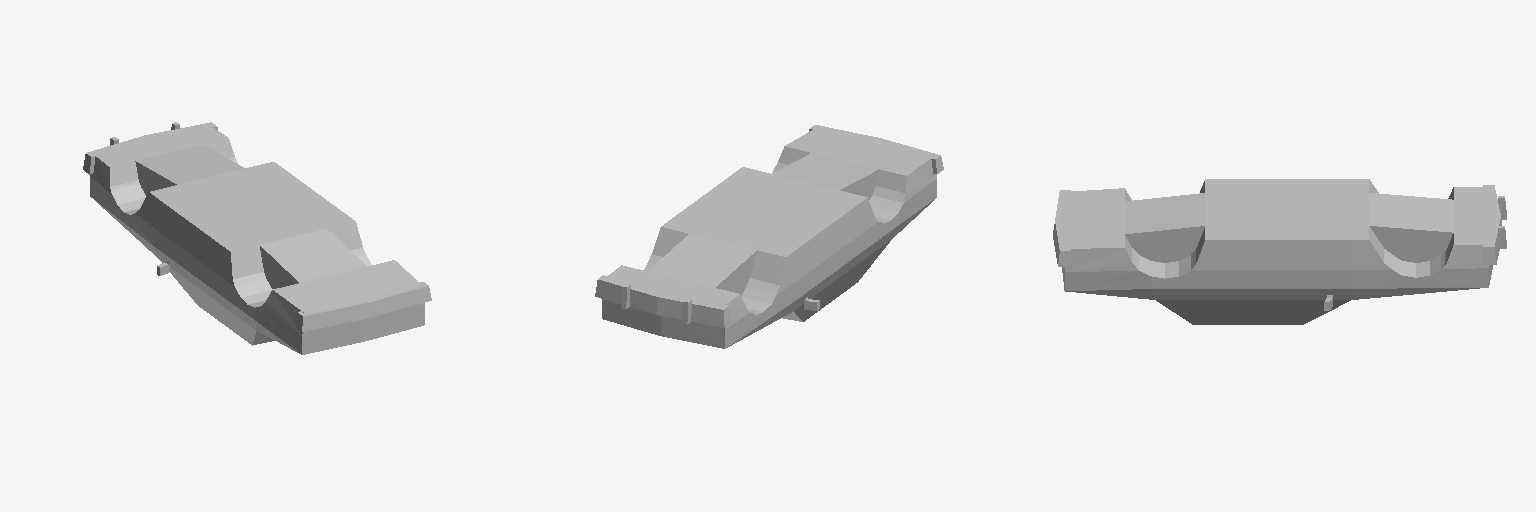
The model's file is car5.obj.
3 views of the same model, side by side, from view 1: azimuth 30°, elevation 25°; view 2: azimuth 150°, elevation 25°; view 3: azimuth 270°, elevation 25° (orthographic).
Visible parts, largest first — view 1: Car5; view 2: Car5; view 3: Car5.
Part boxes in pixels (x1,y1,x2,y2): Car5: (83, 122, 431, 354); Car5: (595, 125, 943, 348); Car5: (1053, 179, 1506, 324).
Bounding box in the file's own units: 2.78 × 1.67 × 7.37.